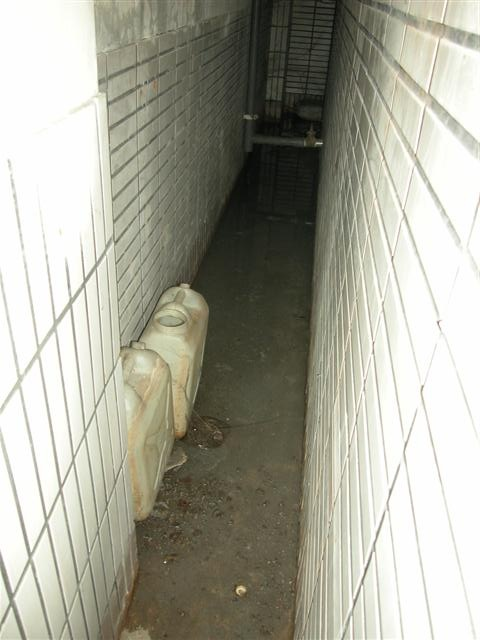bucket: (104, 338, 177, 523), (138, 281, 210, 440)
